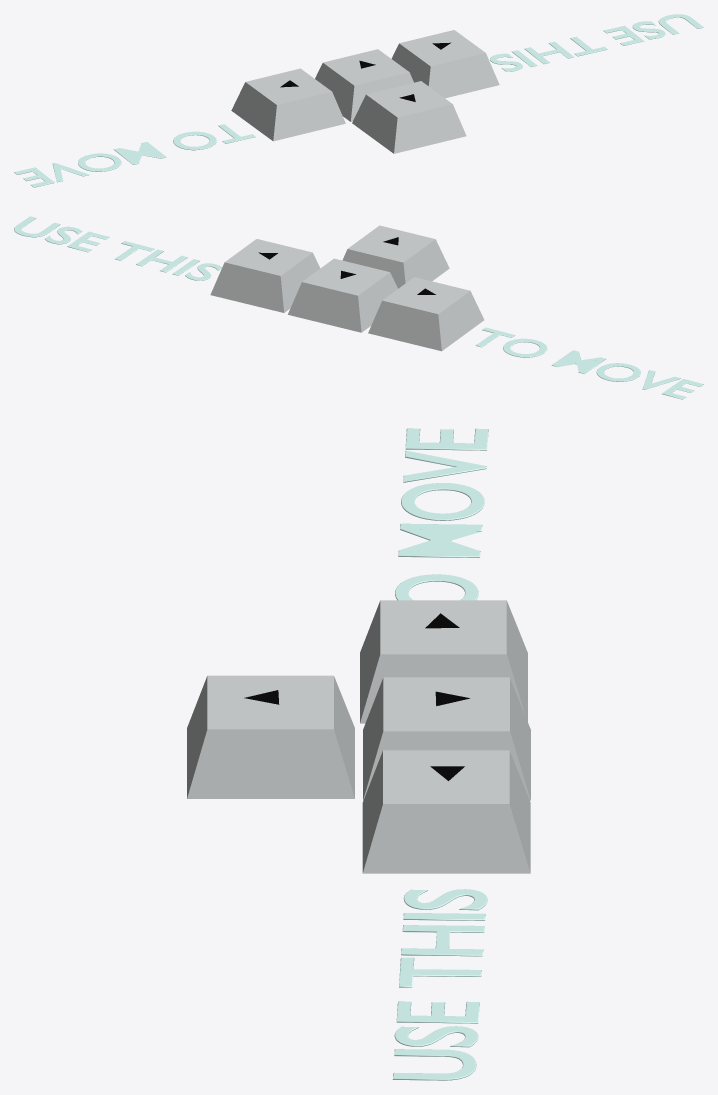
Rendered from keys.glb.
The picture shows the model from 3 angles, top to bottom: view 1: azimuth 30°, elevation 25°; view 2: azimuth 150°, elevation 25°; view 3: azimuth 270°, elevation 25°; orthographic projection. The views are drawn at different scales.
Visible parts, largest first — view 1: Cube.003, Cube.001, Cube.002, Cube, Text.001, Text; view 2: Cube.001, Cube, Cube.002, Cube.003, Text.001, Text; view 3: Cube.002, Cube.003, Cube.001, Cube, Text, Text.001.
Part boxes in pixels (left/top/right/bottom): Cube.003: left=352, top=81, right=466, bottom=153; Cube.001: left=231, top=68, right=345, bottom=141; Cube.002: left=391, top=30, right=499, bottom=98; Cube: left=315, top=49, right=413, bottom=121; Text.001: left=14, top=124, right=255, bottom=187; Text: left=490, top=14, right=703, bottom=71; Cube.001: left=368, top=277, right=484, bottom=351; Cube: left=288, top=258, right=397, bottom=332; Cube.002: left=210, top=239, right=320, bottom=312; Cube.003: left=342, top=225, right=449, bottom=288; Text.001: left=475, top=327, right=703, bottom=399; Text: left=14, top=216, right=221, bottom=280; Cube.002: left=362, top=750, right=530, bottom=873; Cube.003: left=187, top=675, right=354, bottom=798; Cube.001: left=360, top=600, right=527, bottom=723; Cube: left=363, top=677, right=530, bottom=800; Text: left=392, top=889, right=487, bottom=1080; Text.001: left=395, top=428, right=488, bottom=600.
Bounding box in the file's own units: 18.35 × 0.8901 × 4.1.
